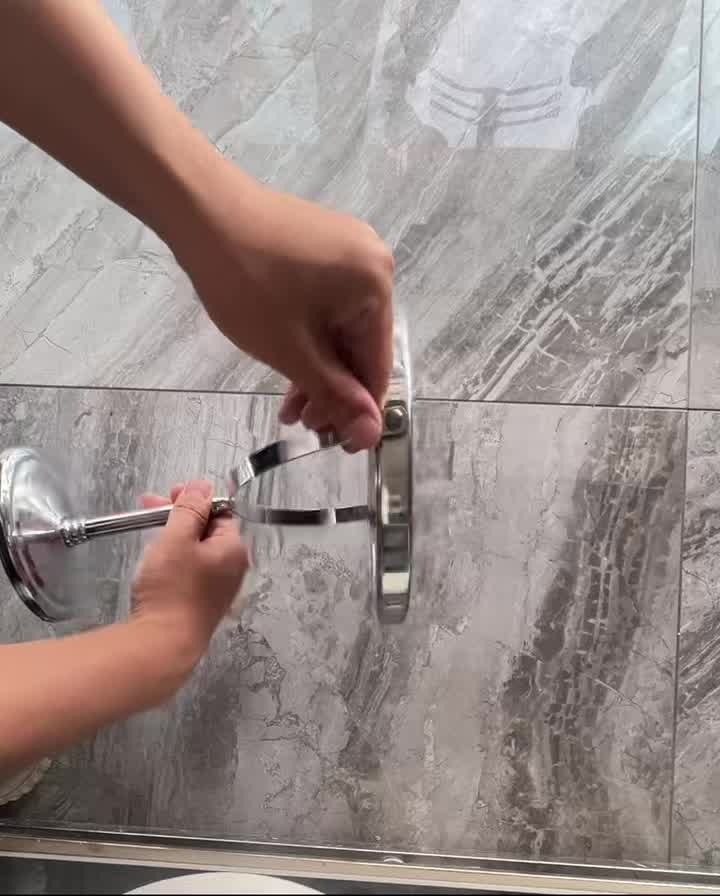base: (3, 434, 76, 626)
frame: (52, 409, 366, 569)
mirror: (372, 300, 465, 639)
screw: (375, 408, 413, 441)
